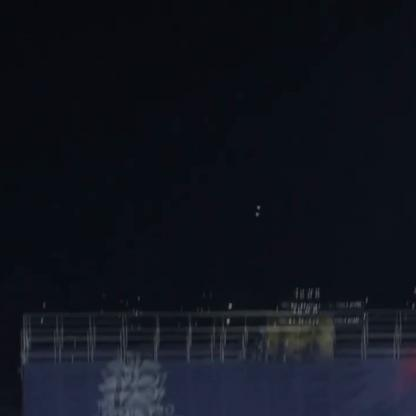ball: (251, 211, 265, 216), (252, 204, 265, 209)
